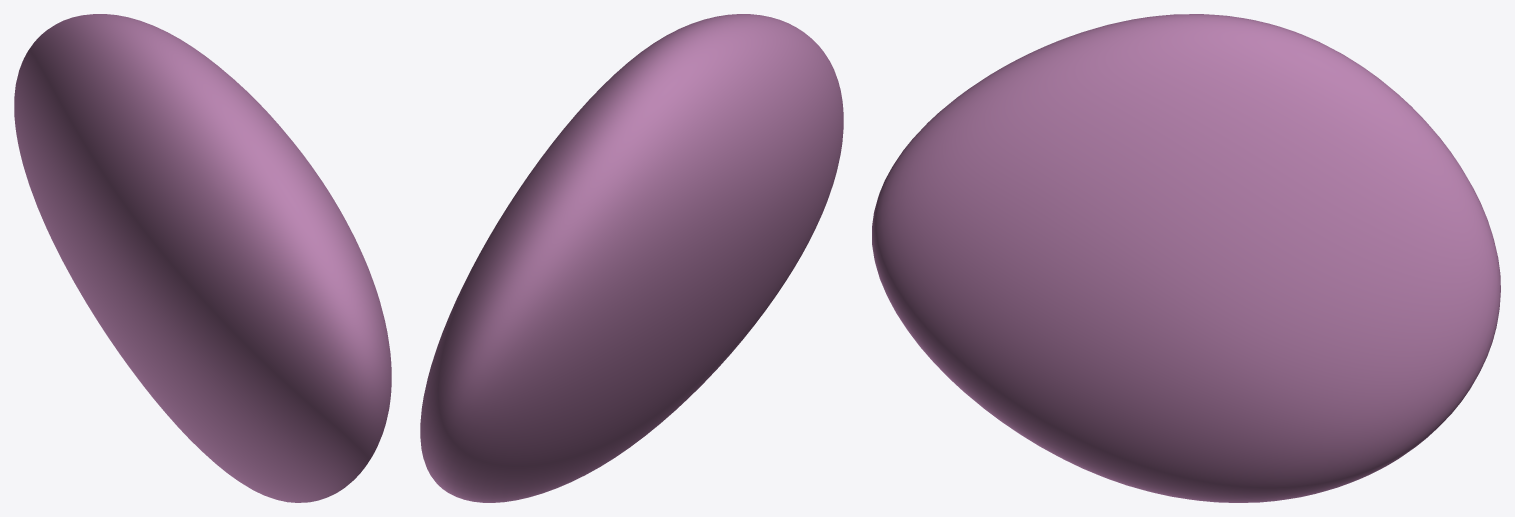
3 renders of one model, left to right at view 1: azimuth 30°, elevation 25°; view 2: azimuth 150°, elevation 25°; view 3: azimuth 270°, elevation 25°, orthographic. The views are drawn at different scales.
Visible parts, largest first — view 1: VD_F; view 2: VD_F; view 3: VD_F.
Part boxes in pixels (box(x1,y1,x2,y2)): VD_F: box(14, 14, 391, 502); VD_F: box(420, 14, 843, 502); VD_F: box(872, 14, 1500, 502).
Bounding box in the file's own units: 1.45 × 2.67 × 3.53.
